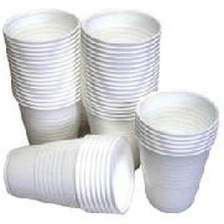glass: (79, 5, 168, 175), (0, 131, 142, 222), (0, 6, 85, 158), (132, 85, 222, 222)
